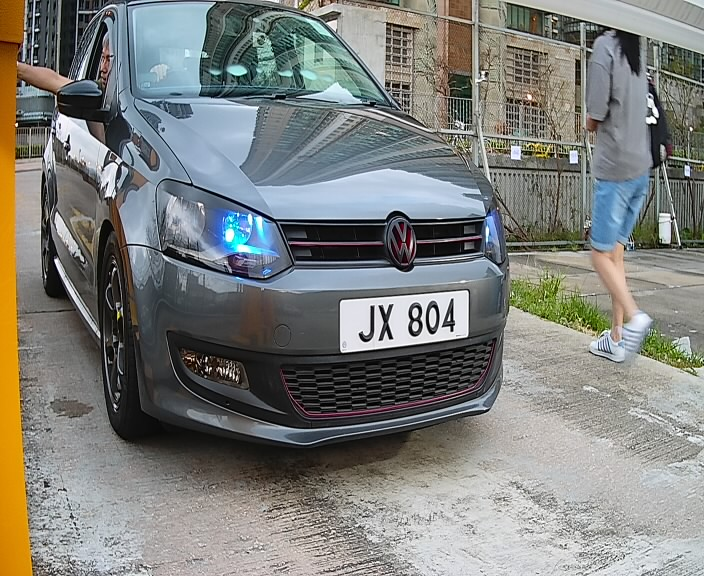Car: (47, 2, 536, 476)
License Plate: (335, 286, 479, 359)
